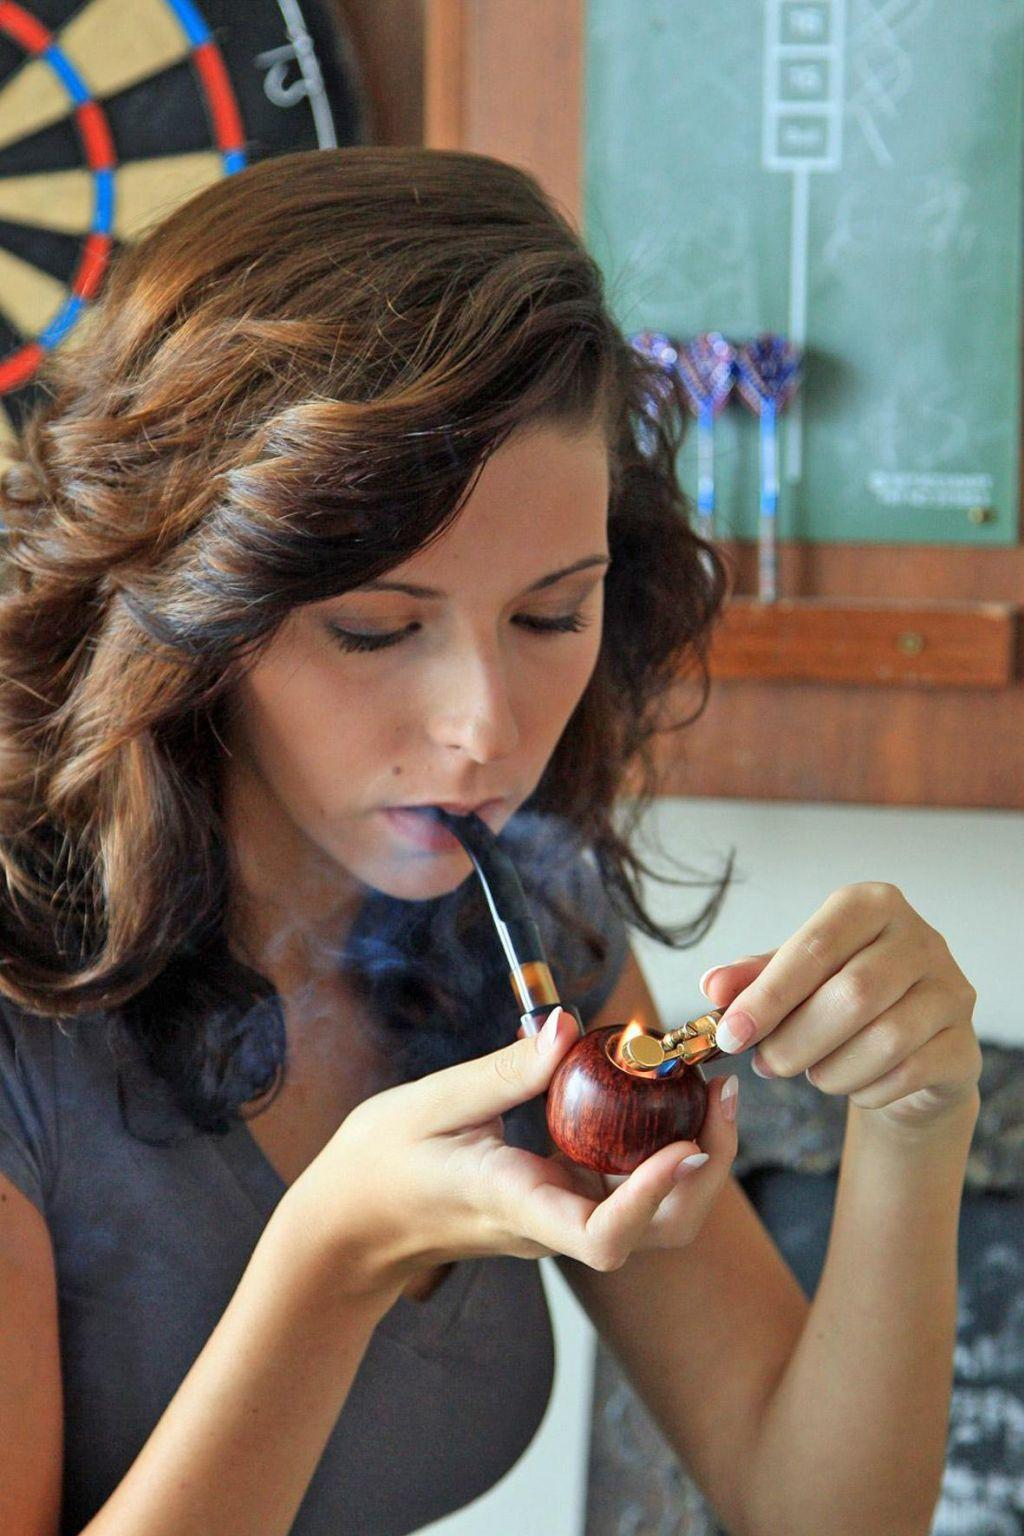trubka: (423, 801, 710, 1175)
